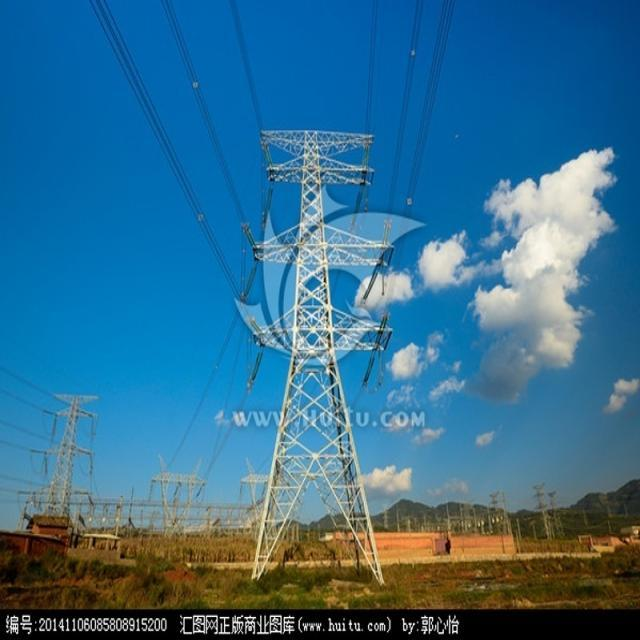non-critical vegetation: (246, 109, 394, 593), (26, 391, 100, 536)
